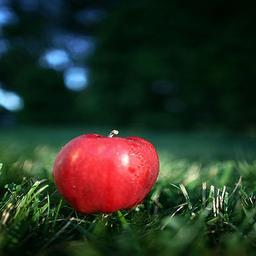apple: (53, 133, 160, 213)
